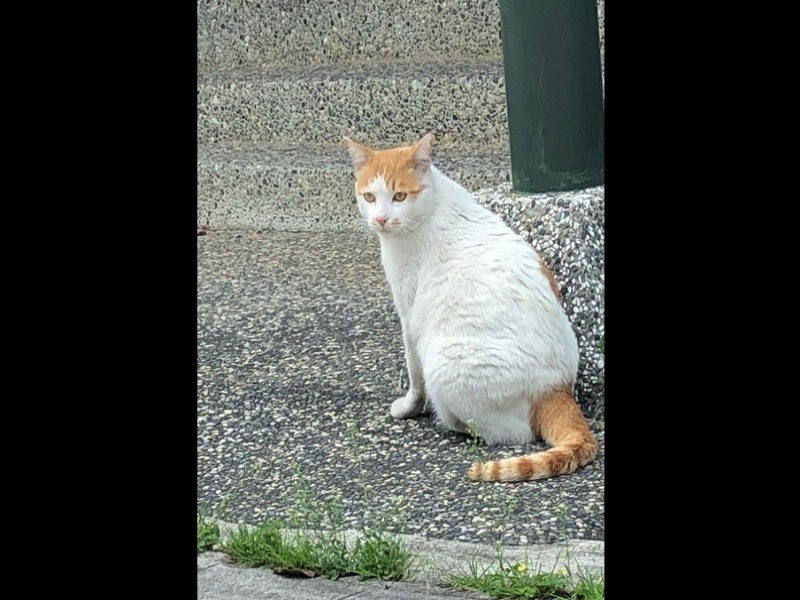cat: (339, 128, 602, 484)
